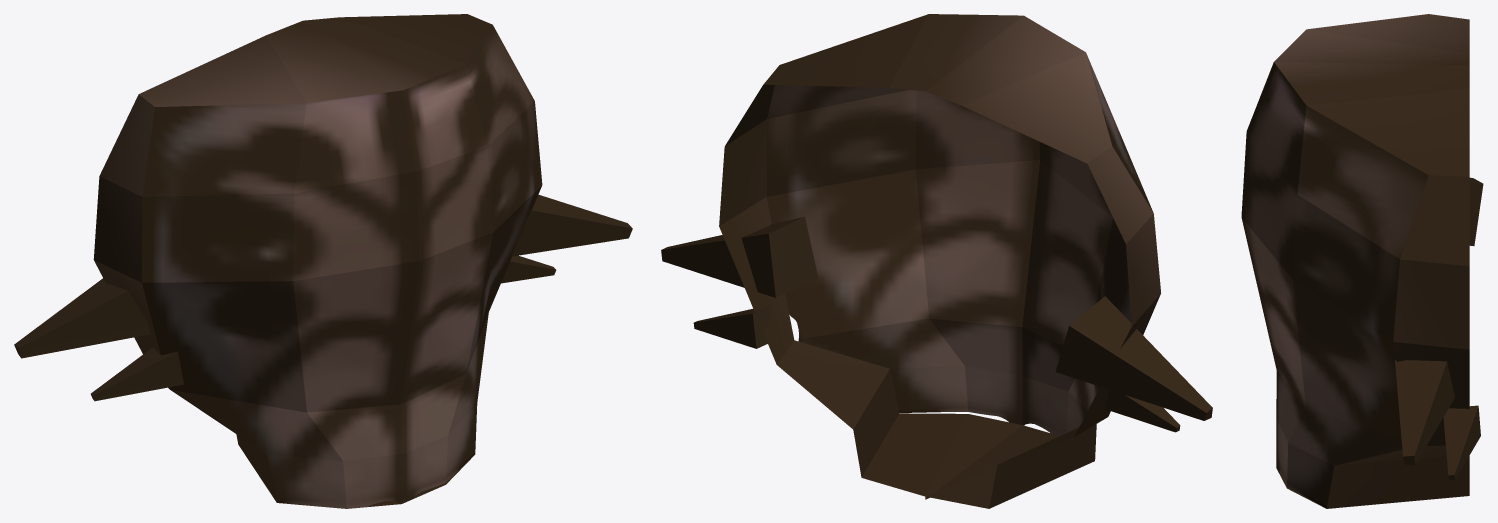
File: Mascara3.fbx
The picture shows the model from 3 angles, left to right: view 1: azimuth 30°, elevation 25°; view 2: azimuth 150°, elevation 25°; view 3: azimuth 270°, elevation 25°; orthographic projection. The views are drawn at different scales.
Visible parts, largest first — view 1: Mascara3; view 2: Mascara3; view 3: Mascara3.
Part boxes in pixels (x1,y1,x2,y2): Mascara3: (14, 14, 632, 508); Mascara3: (661, 14, 1212, 508); Mascara3: (1241, 14, 1483, 508).
Bounding box in the file's own units: 77.27 × 28.31 × 52.86.
